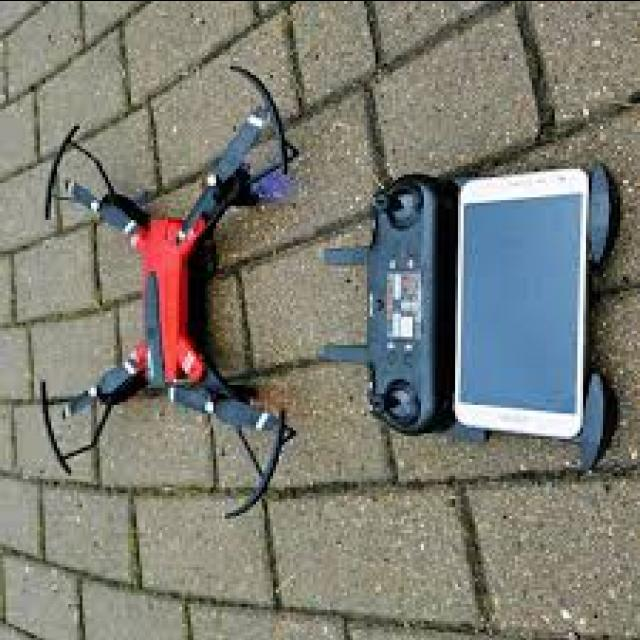drone: (17, 59, 335, 522)
